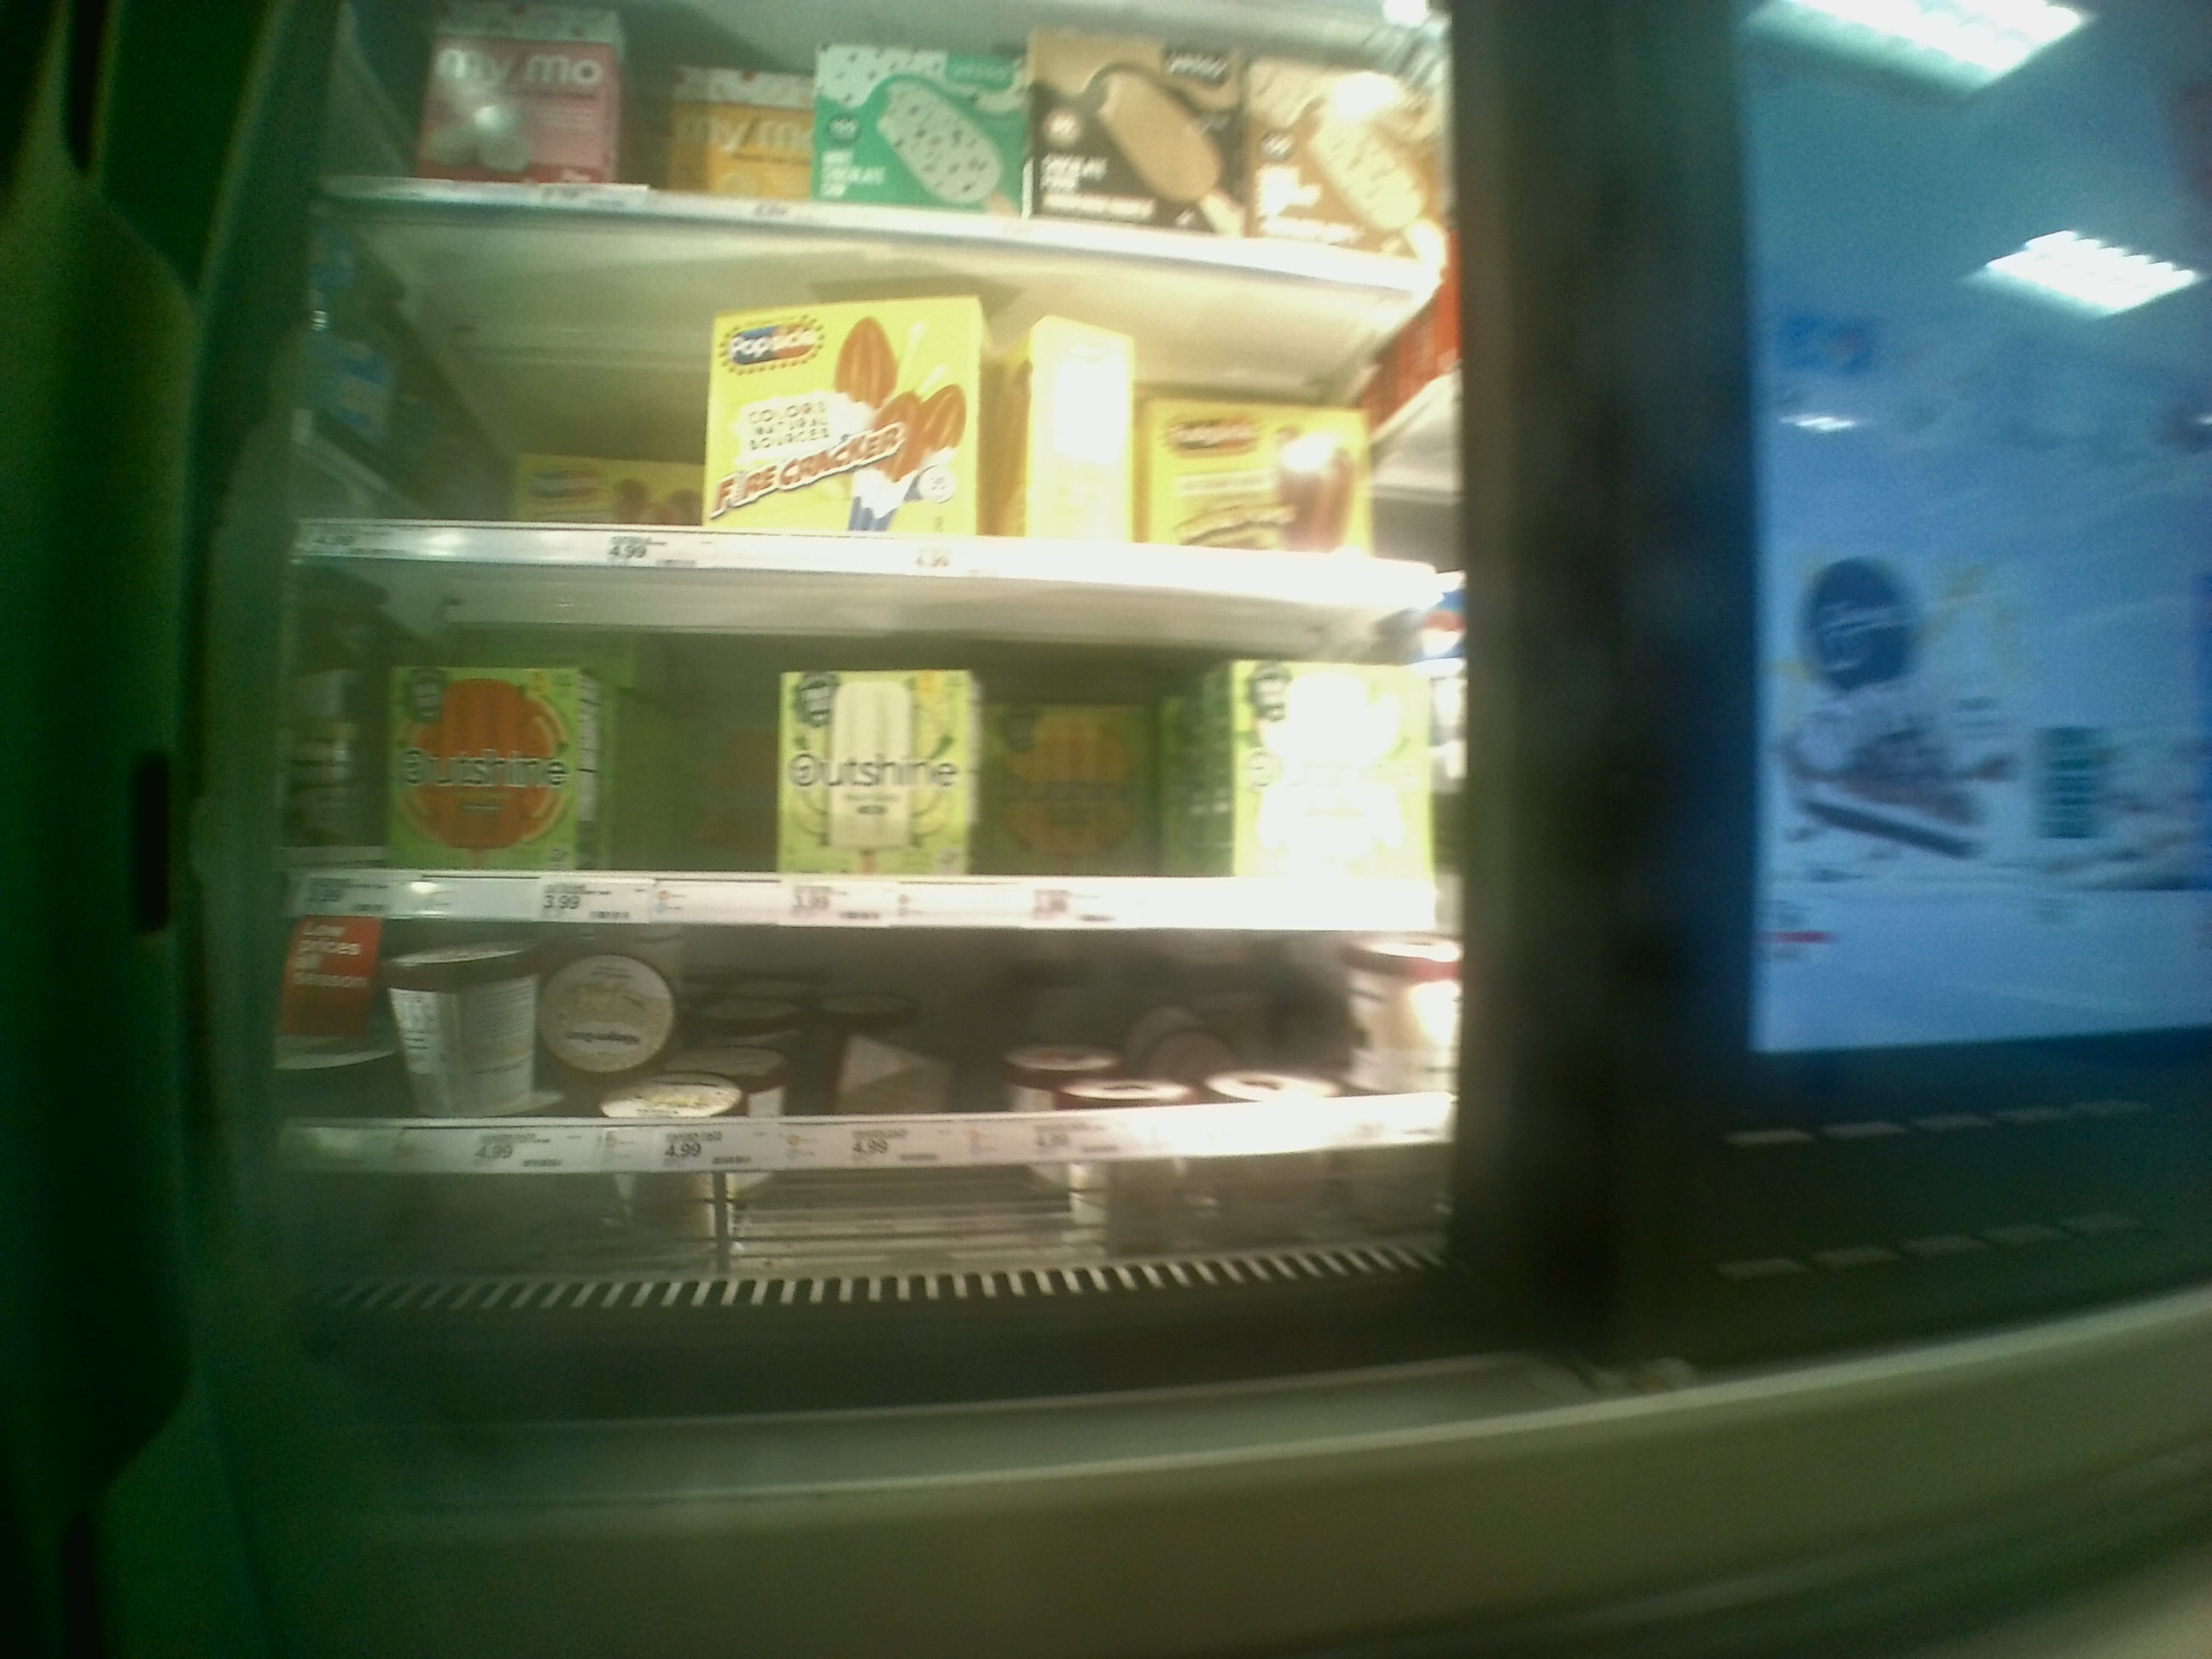ice-cream-shelf: (280, 558, 1460, 913), (284, 913, 1453, 1162)
